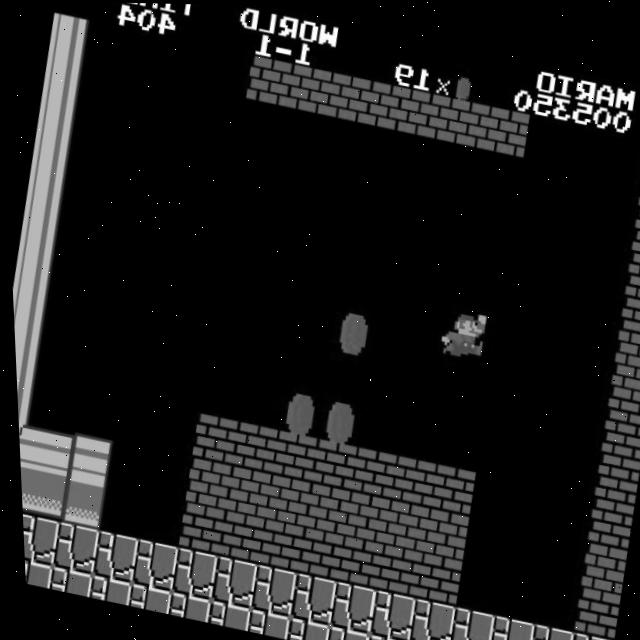1- brick_block: (480, 104, 531, 158), (415, 507, 466, 561), (376, 498, 427, 552), (369, 543, 420, 597), (401, 87, 452, 141), (336, 490, 387, 544), (329, 535, 380, 589), (361, 79, 412, 133), (297, 482, 348, 536), (290, 526, 341, 580), (322, 71, 373, 125), (257, 474, 308, 528), (250, 518, 301, 572), (282, 62, 333, 116), (211, 510, 262, 564), (243, 54, 294, 108), (178, 457, 229, 511), (171, 501, 222, 555), (423, 462, 474, 515), (383, 454, 434, 507), (344, 446, 395, 499), (264, 429, 315, 482), (225, 421, 276, 474), (185, 412, 236, 465), (588, 450, 638, 504), (567, 584, 617, 638), (409, 551, 459, 605), (441, 96, 491, 150), (218, 465, 268, 519), (304, 438, 355, 490), (581, 495, 631, 548), (574, 540, 624, 593), (596, 405, 640, 459), (603, 361, 640, 414), (610, 315, 640, 369), (617, 271, 640, 324), (624, 227, 640, 279), (631, 182, 640, 234)
11- little_mario: (435, 304, 488, 360)
14- pipe: (45, 12, 96, 66), (24, 146, 75, 200), (17, 191, 68, 245), (20, 424, 71, 477), (38, 57, 89, 110), (31, 102, 82, 155), (10, 237, 61, 289), (16, 468, 63, 522), (10, 280, 54, 334), (11, 325, 46, 379), (13, 371, 39, 423), (15, 416, 31, 468)
15- pipe_head: (60, 432, 110, 486), (53, 477, 103, 530)
17- undestructible_block: (322, 580, 373, 634), (243, 563, 294, 617), (203, 555, 254, 609), (124, 538, 175, 592), (85, 530, 136, 584), (45, 521, 96, 575), (283, 572, 334, 625), (164, 547, 215, 600), (362, 588, 413, 640), (401, 596, 451, 640), (18, 513, 57, 567), (441, 604, 491, 640), (240, 608, 286, 639), (161, 591, 207, 622), (121, 583, 167, 614), (42, 566, 88, 597), (200, 600, 246, 630), (82, 575, 128, 605), (480, 613, 530, 640), (279, 616, 325, 640), (519, 621, 569, 640), (19, 558, 49, 588), (319, 624, 364, 640), (560, 628, 608, 640), (359, 633, 404, 640)
2- coin: (325, 303, 376, 357), (311, 392, 362, 446), (272, 384, 323, 438)
